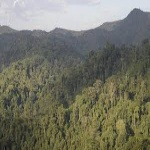Forest: (5, 47, 146, 145)
